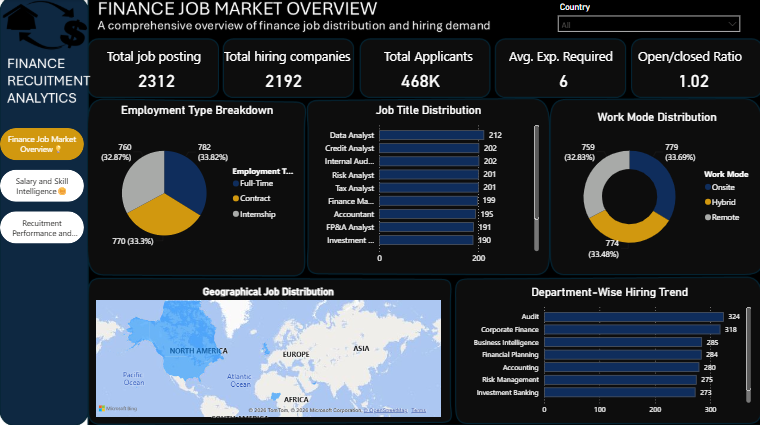

This screenshot's page, from the dashboard's own definition file:
{"tool":"powerbi","page":{"name":"Finance Job Market Overview💡","canvas":[1280,720],"ordinal":0},"visuals":[{"type":"clusteredBarChart","title":"Job Title Distribution","fields":{"Y":["All Measures.Total Job Postings"],"Category":["Finance Dataset.Job Title"]},"box":[529.1,174.7,381.3,278.8],"z":0},{"type":"pieChart","title":"Employment Type Breakdown","fields":{"Y":["All Measures.Total Job Postings"],"Category":["Finance Dataset.Employment Type"]},"box":[156.2,174.7,349.4,278.8],"z":1000},{"type":"donutChart","title":"Work Mode Distribution","fields":{"Y":["All Measures.Total Job Postings"],"Category":["Finance Dataset.Work Mode"]},"box":[927.2,186.5,352.8,267.1],"z":2000},{"type":"clusteredBarChart","title":"Department-Wise Hiring Trend","fields":{"Y":["All Measures.Total Job Postings"],"Category":["Finance Dataset.Department"]},"box":[781.1,480.4,485.5,226.8],"z":3000},{"type":"filledMap","title":"Geographical Job Distribution","fields":{"Category":["Finance Dataset.Country"]},"box":[156.2,480.4,589.6,226.8],"z":4000},{"type":"pageNavigator","box":[0,216.7,141.1,196.5],"z":5000},{"type":"textbox","box":[174.7,75.6,176.4,38.6],"z":6000},{"type":"textbox","box":[371.2,75.6,248.6,38.6],"z":7000},{"type":"textbox","box":[640,75.6,178.1,38.6],"z":8000},{"type":"textbox","box":[850,75.6,193.2,38.6],"z":9000},{"type":"textbox","box":[1066.7,75.6,199.9,38.6],"z":10000},{"type":"card","fields":{"Values":["All Measures.Total Job Postings"]},"box":[213.3,109.2,99.1,52.1],"z":11000},{"type":"card","fields":{"Values":["All Measures.Total Hiringg Companies"]},"box":[401.5,109.2,149.5,52.1],"z":12000},{"type":"card","fields":{"Values":["All Measures.Total applicant"]},"box":[631.6,109.2,149.5,52.1],"z":13000},{"type":"card","fields":{"Values":["All Measures.Avg. Experience Requirement"]},"box":[871.8,104.1,149.5,63.8],"z":14000},{"type":"card","fields":{"Values":["All Measures.Open to close Ratio"]},"box":[1090.2,104.1,149.5,63.8],"z":15000},{"type":"slicer","fields":{"Values":["Finance Dataset.Country"]},"box":[927.2,0,325.9,57.1],"z":16000}]}

Visuals, with their boxes on the page's 1280x720 design canvas (x1, y1, x2, y2). These are canvas units, not pixel positions in the 760x425 screenshot, which may show the page scaled, cropped or inside an application window:
"Job Title Distribution" clusteredBarChart: box=[529, 175, 910, 454]
"Employment Type Breakdown" pieChart: box=[156, 175, 506, 454]
"Work Mode Distribution" donutChart: box=[927, 186, 1280, 454]
"Department-Wise Hiring Trend" clusteredBarChart: box=[781, 480, 1267, 707]
"Geographical Job Distribution" filledMap: box=[156, 480, 746, 707]
pageNavigator: box=[0, 217, 141, 413]
textbox: box=[175, 76, 351, 114]
textbox: box=[371, 76, 620, 114]
textbox: box=[640, 76, 818, 114]
textbox: box=[850, 76, 1043, 114]
textbox: box=[1067, 76, 1267, 114]
card - All Measures.Total Job Postings: box=[213, 109, 312, 161]
card - All Measures.Total Hiringg Companies: box=[402, 109, 551, 161]
card - All Measures.Total applicant: box=[632, 109, 781, 161]
card - All Measures.Avg. Experience Requirement: box=[872, 104, 1021, 168]
card - All Measures.Open to close Ratio: box=[1090, 104, 1240, 168]
slicer - Finance Dataset.Country: box=[927, 0, 1253, 57]
